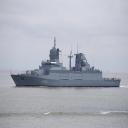Fragata: (9, 37, 123, 90)
